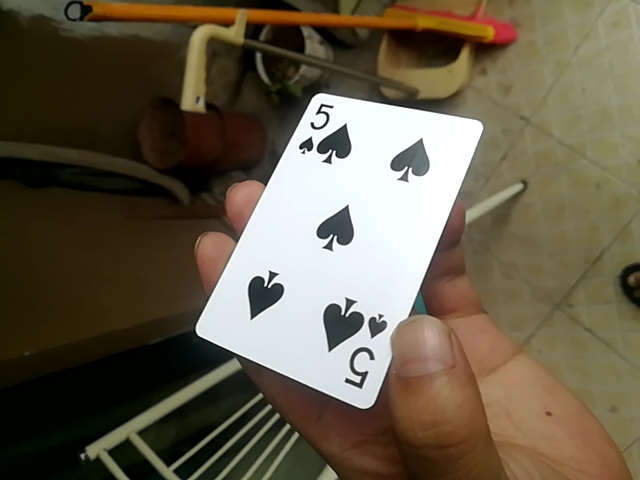ht 5: (184, 94, 484, 409)
